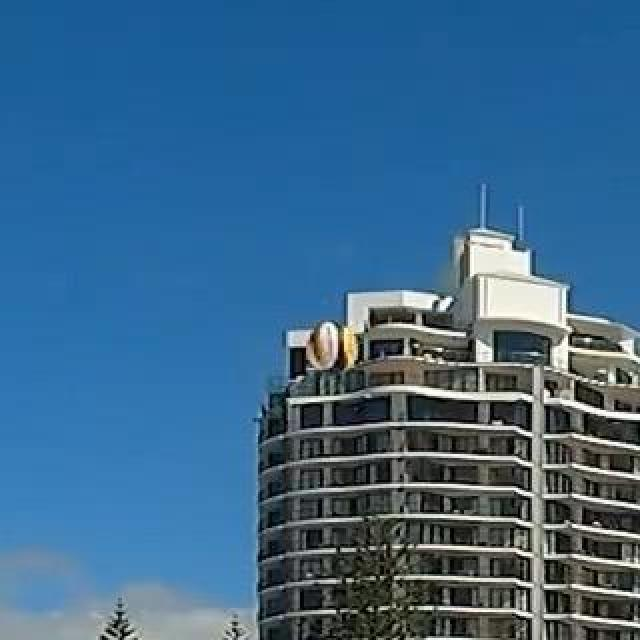volleyball: (310, 322, 354, 370)
